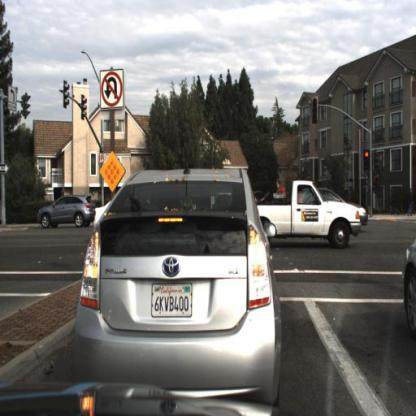car: (72, 165, 283, 388), (254, 181, 361, 249), (38, 195, 98, 226), (401, 230, 416, 336)
trafficLight: (312, 92, 322, 125)
trafficLight-Red: (362, 146, 373, 174)
